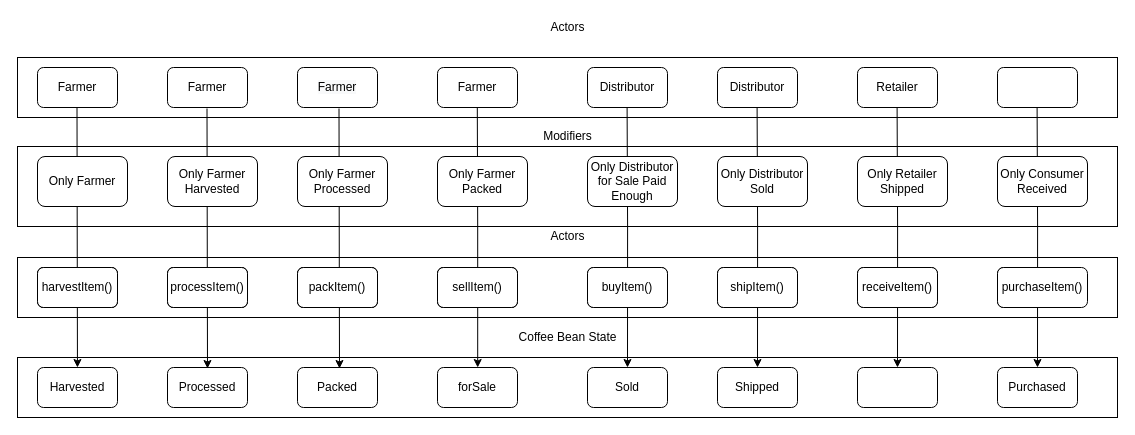
Some shapes in this 1135 by 435 pixel diagram are drawn without their labels. The shapes that lost their labels are listed below. From the top down, each one's centre as x and y in pixels, then its label:
the point at 1037,87: Consumer
the point at 897,387: Received
